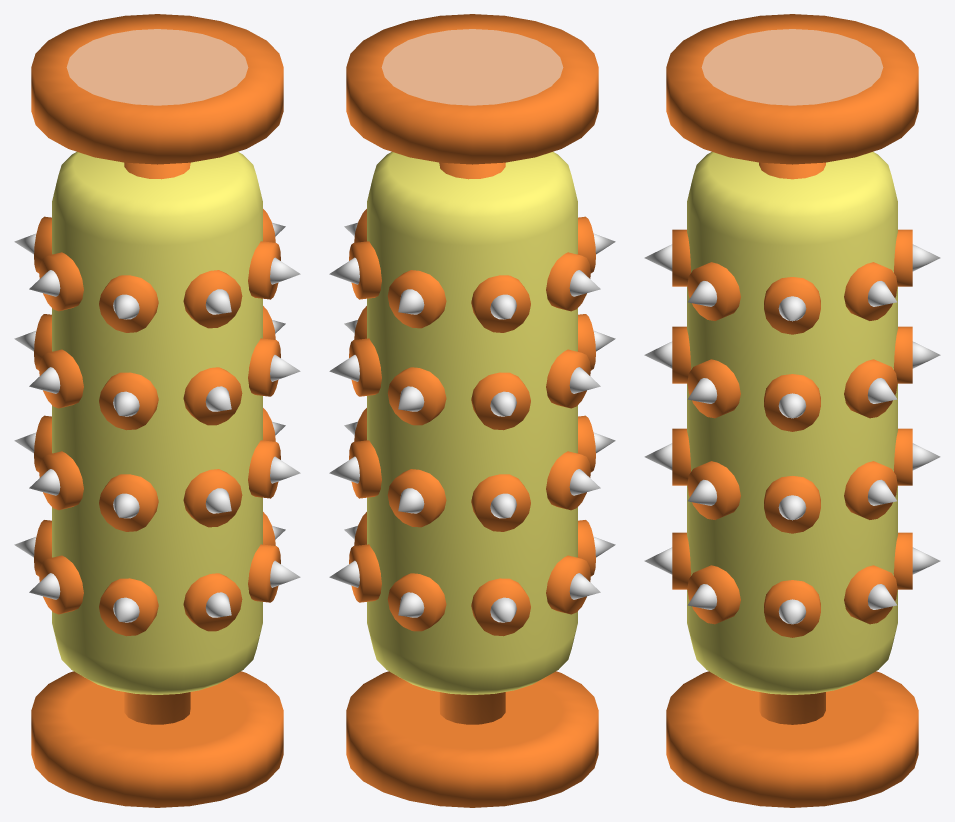
File: Obstacle 20 V3.fbx
3 renders of one model, left to right at view 1: azimuth 30°, elevation 25°; view 2: azimuth 150°, elevation 25°; view 3: azimuth 270°, elevation 25°, orthographic.
Visible parts, largest first — view 1: O20 Part 1, O20 Part 2; view 2: O20 Part 1, O20 Part 2; view 3: O20 Part 1, O20 Part 2.
Boxes of the visible parts, left/top/right/bottom form: O20 Part 1: left=14, top=152, right=300, bottom=694; O20 Part 2: left=31, top=14, right=283, bottom=807; O20 Part 1: left=329, top=152, right=615, bottom=694; O20 Part 2: left=346, top=14, right=598, bottom=807; O20 Part 1: left=644, top=152, right=940, bottom=694; O20 Part 2: left=666, top=14, right=918, bottom=807.
Size of the model in its own units: 66.38 by 170 by 66.38.
1 material, 1 textured.
